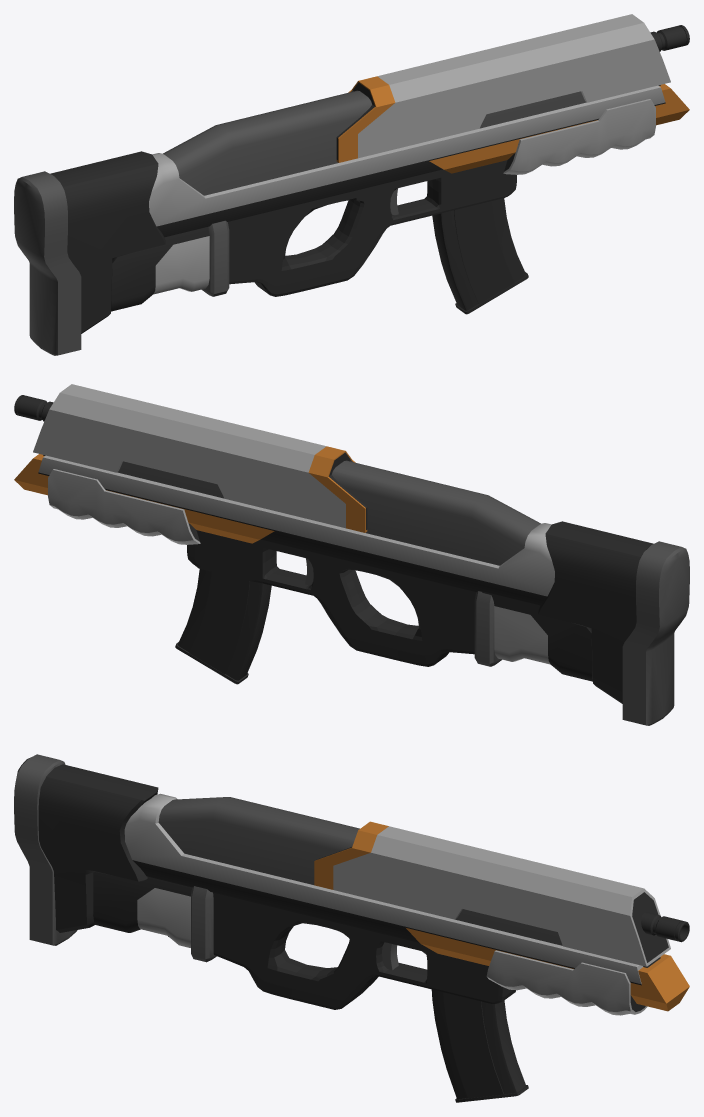
Rendered from quaternius-modular-sci-fi-guns-ar-4.glb.
3 renders of one model, top to bottom at view 1: azimuth 30°, elevation 25°; view 2: azimuth 150°, elevation 25°; view 3: azimuth 330°, elevation 25°, orthographic.
Visible parts, largest first — view 1: AR_4; view 2: AR_4; view 3: AR_4.
Boxes of the visible parts, x1,y1,x2,y2 form: AR_4: (14,14,689,355); AR_4: (14,384,689,725); AR_4: (14,754,689,1102).
Bounding box in the file's own units: 1.79 × 0.6476 × 0.1461.
